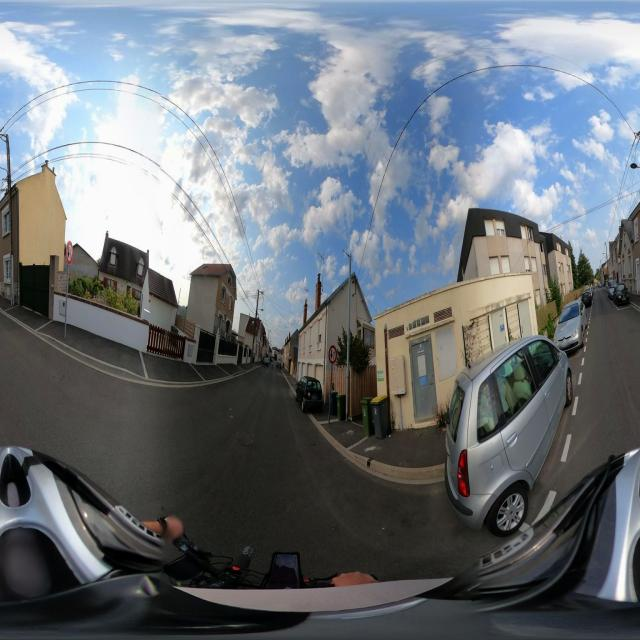car: (440, 333, 573, 538), (554, 304, 586, 354), (300, 377, 324, 413), (295, 375, 311, 404), (614, 280, 630, 306), (583, 287, 593, 307), (608, 280, 616, 299)
